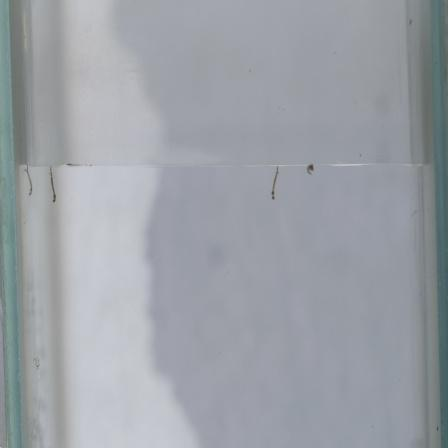Jentik-Nyamuk: (44, 163, 61, 207), (20, 164, 39, 199), (269, 164, 285, 203), (303, 160, 319, 180)
